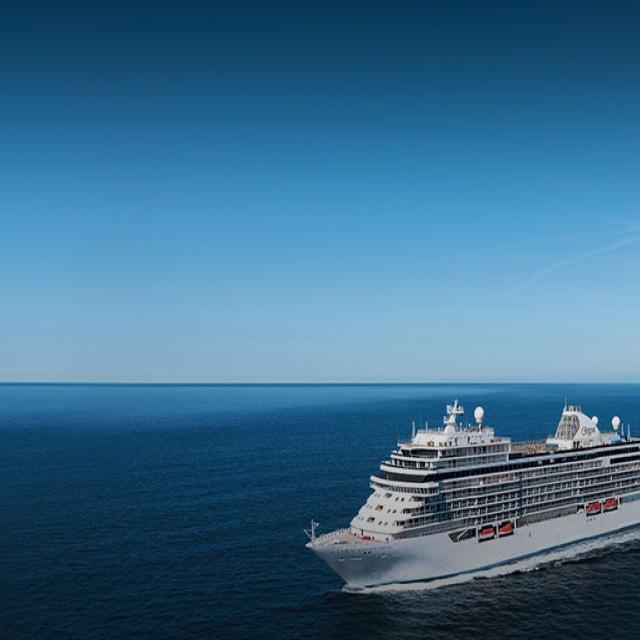passenger ship: (301, 397, 640, 593)
